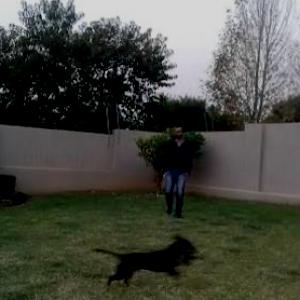follow: (163, 122, 191, 218)
